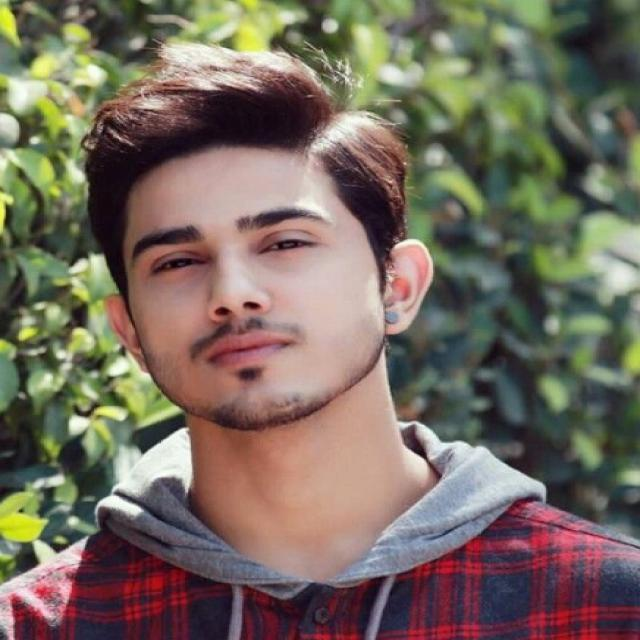face_no_mask: (100, 166, 436, 433)
